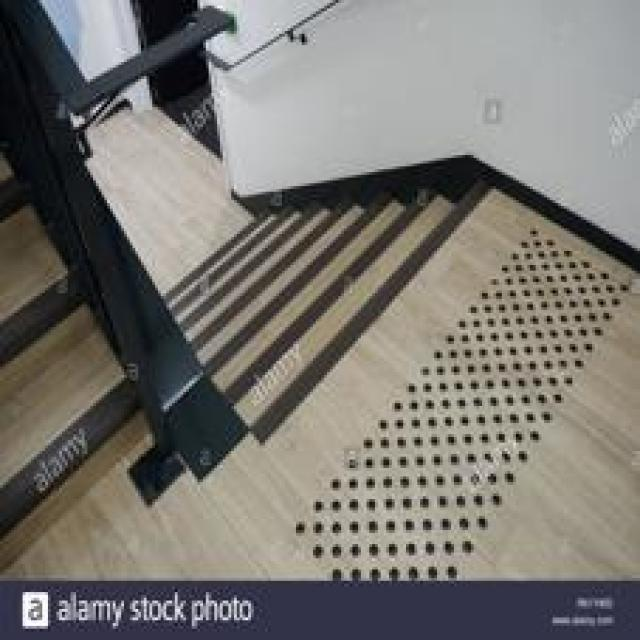stair: (165, 213, 464, 464)
